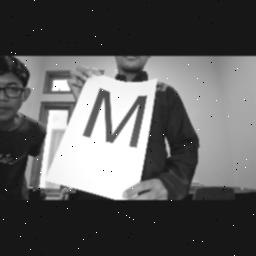m: (78, 80, 148, 152)
